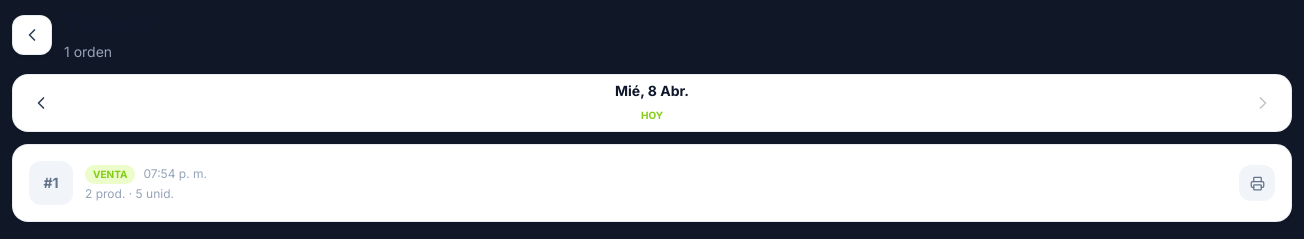
Scenario: TiendaTicketsPage › navega al día anterior con el botón ←
# El segundo botón es el ← del filtro de fecha
Click the 2nd button: (41, 103) [21, 83, 61, 123]
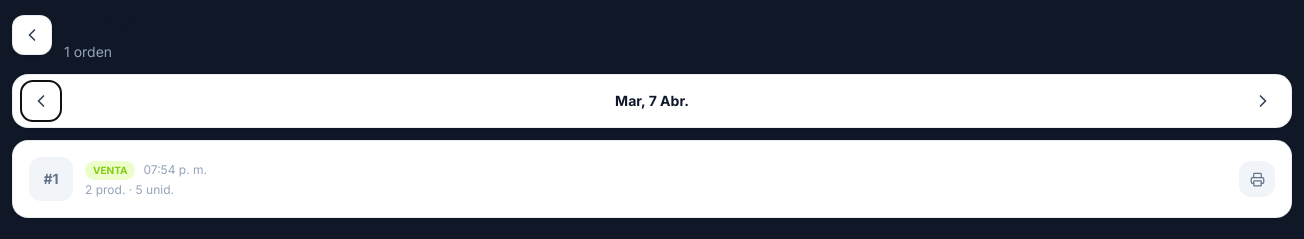
Now the text "Hoy" is gone
